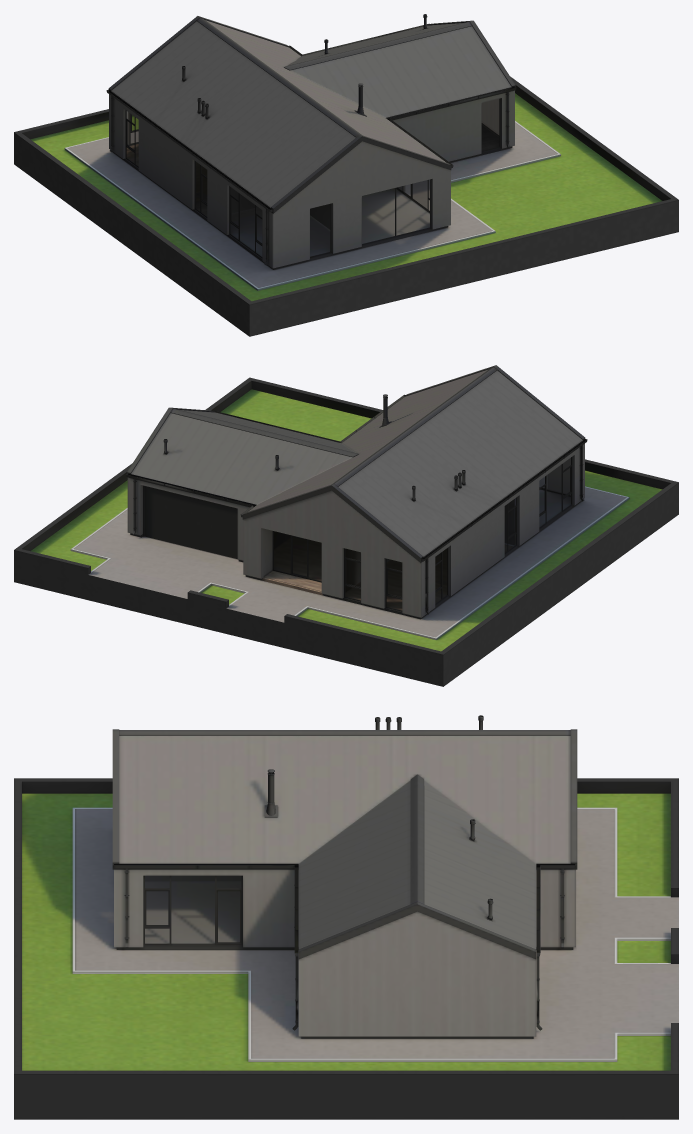
3 renders of one model, top to bottom at view 1: azimuth 30°, elevation 25°; view 2: azimuth 150°, elevation 25°; view 3: azimuth 270°, elevation 25°, orthographic. The views are drawn at different scales.
Parts seen in each view (by area): view 1: Object005; view 2: Object005; view 3: Object005.
Part boxes in pixels (x1,y1,x2,y2): Object005: (14,14,678,336); Object005: (14,365,678,686); Object005: (14,715,678,1119).
Bounding box in the file's own units: 26.51 × 8.2 × 25.2.
Materials: 2 (1 with a texture image).
